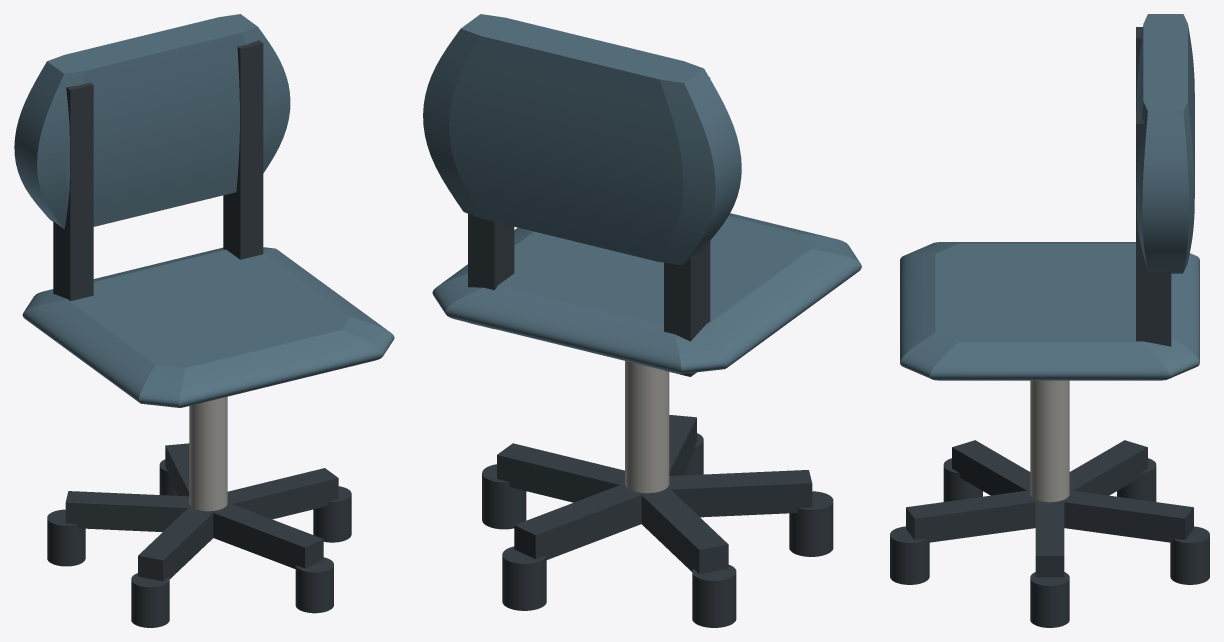
File: desk_chair.glb
3 views of the same model, side by side, from view 1: azimuth 30°, elevation 25°; view 2: azimuth 150°, elevation 25°; view 3: azimuth 270°, elevation 25° (orthographic). The views are drawn at different scales.
Visible parts, largest first — view 1: Seat pad, Backrest, Back support, Back support.001, Base spoke.002, Center stem, Base spoke.004, Base spoke, Base spoke.003, Caster.003, Caster.004, Caster.002 (+2 smaller); view 2: Backrest, Seat pad, Base spoke.003, Center stem, Base spoke.001, Base spoke, Base spoke.002, Back support, Back support.001, Caster.002, Caster.001, Caster.003 (+2 smaller); view 3: Seat pad, Backrest, Base spoke.001, Base spoke.004, Center stem, Back support.001, Base spoke.003, Base spoke.002, Base spoke, Caster, Caster.001, Caster.004 (+2 smaller).
Part boxes in pixels (x1,y1,x2,y2): Seat pad: (22, 247, 394, 407); Backrest: (14, 14, 290, 228); Back support: (53, 82, 93, 301); Back support.001: (223, 40, 263, 259); Base spoke.002: (65, 491, 190, 531); Center stem: (189, 396, 227, 511); Base spoke.004: (210, 504, 323, 568); Base spoke: (227, 468, 338, 519); Base spoke.003: (138, 506, 213, 581); Caster.003: (131, 573, 169, 627); Caster.004: (295, 557, 333, 613); Caster.002: (47, 509, 85, 566); Backrest: (423, 14, 741, 265); Seat pad: (432, 213, 861, 373); Base spoke.003: (665, 470, 812, 517); Center stem: (625, 361, 669, 493); Base spoke.001: (514, 485, 645, 559); Base spoke: (497, 443, 625, 502); Base spoke.002: (641, 487, 728, 573); Back support: (664, 77, 710, 376); Back support.001: (468, 213, 514, 328); Caster.002: (692, 565, 736, 627); Caster.001: (502, 546, 546, 610); Caster.003: (789, 491, 833, 556); Seat pad: (900, 242, 1199, 380); Backrest: (1136, 14, 1194, 273); Base spoke.001: (1060, 490, 1193, 542); Base spoke.004: (906, 490, 1040, 542); Center stem: (1030, 380, 1069, 502); Back support.001: (1136, 112, 1171, 346); Base spoke.003: (952, 440, 1030, 495); Base spoke.002: (1069, 440, 1147, 495); Base spoke: (1035, 500, 1064, 577); Caster: (1030, 572, 1069, 627); Caster.001: (1170, 526, 1209, 584); Caster.004: (890, 526, 929, 584).
Size of the model in its own units: 0.5244 by 0.896 by 0.5253.
